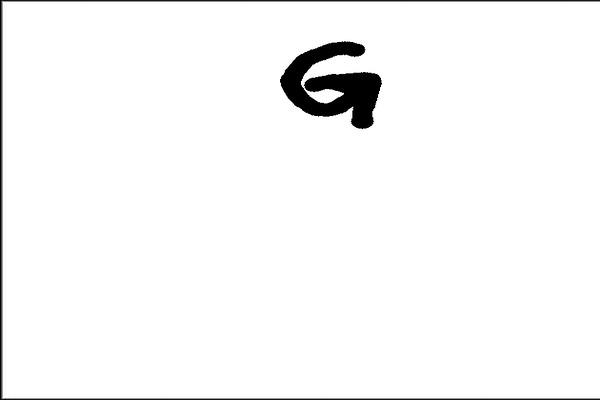G: (274, 37, 385, 135)
